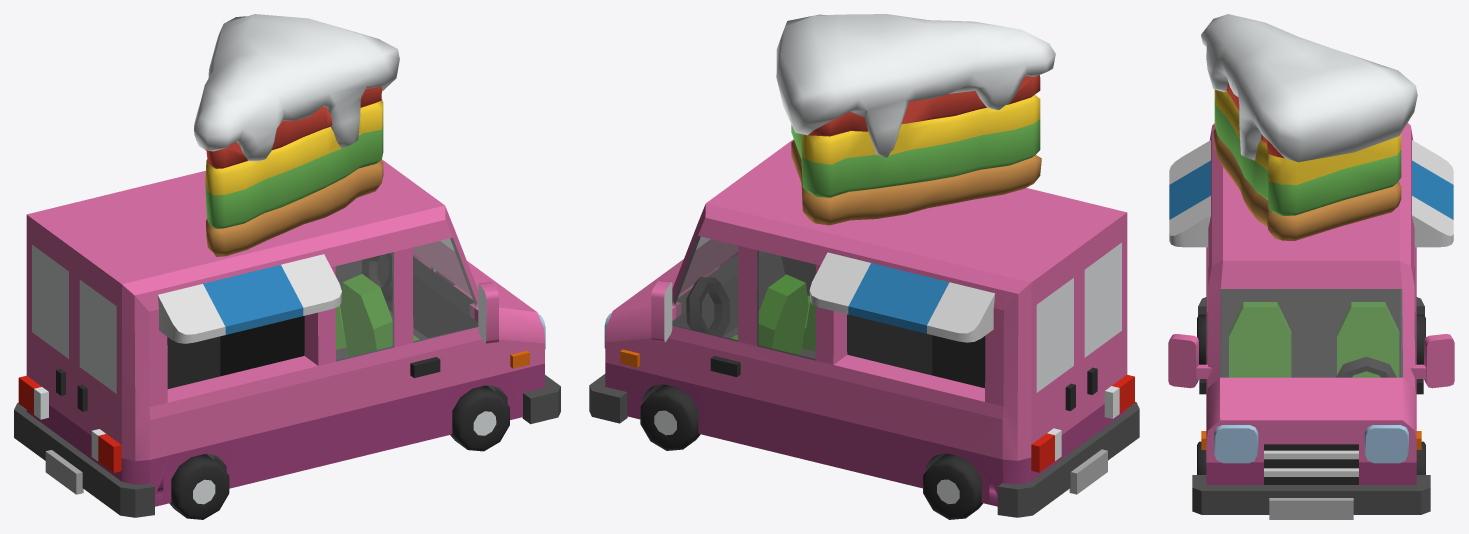
The model's file is car_hotdog_s03.FBX.
The picture shows the model from 3 angles, left to right: view 1: azimuth 30°, elevation 25°; view 2: azimuth 150°, elevation 25°; view 3: azimuth 270°, elevation 25°; orthographic projection. The views are drawn at different scales.
Visible parts, largest first — view 1: car_hotdog_s03; view 2: car_hotdog_s03; view 3: car_hotdog_s03.
Boxes of the visible parts, box(x1,y1,x2,y2) form: car_hotdog_s03: box(14, 14, 560, 519); car_hotdog_s03: box(589, 14, 1139, 519); car_hotdog_s03: box(1168, 14, 1454, 519).
Size of the model in its own units: 402 by 241 by 353.
Materials: 2 (1 with a texture image).
